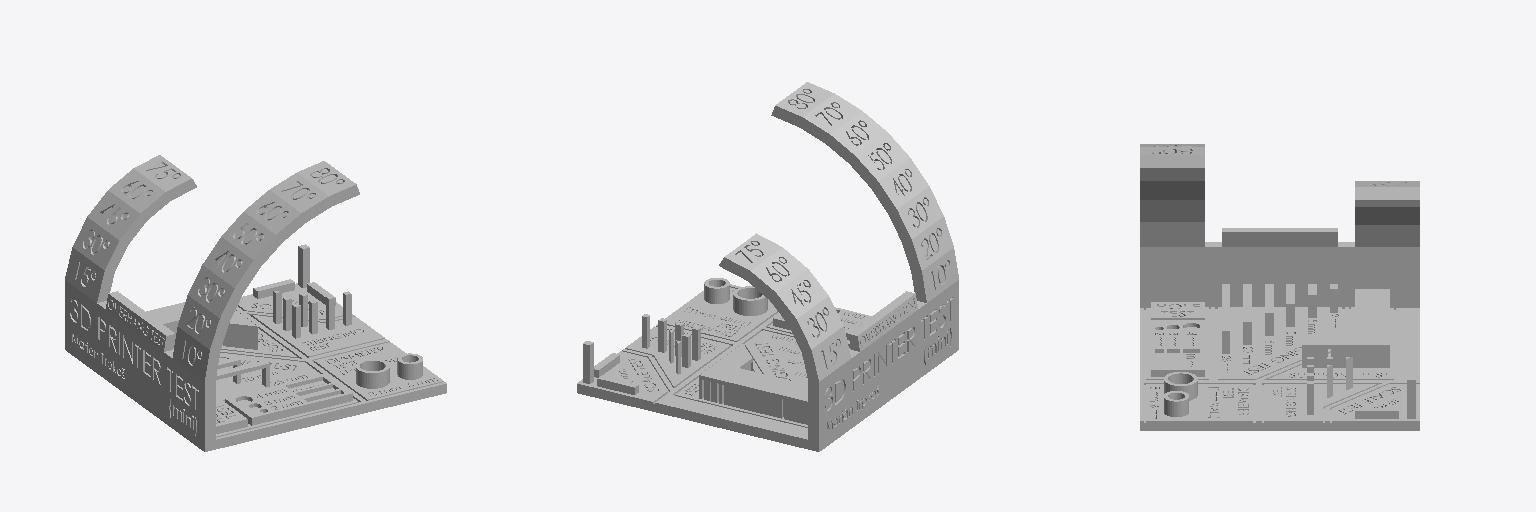
Rendered from 3dtest.obj.
3 views of the same model, side by side, from view 1: azimuth 30°, elevation 25°; view 2: azimuth 150°, elevation 25°; view 3: azimuth 270°, elevation 25° (orthographic).
Visible parts, largest first — view 1: 3D_printer_test_mini; view 2: 3D_printer_test_mini; view 3: 3D_printer_test_mini.
Part boxes in pixels (bbox=[...]): 3D_printer_test_mini: bbox=[65, 155, 446, 451]; 3D_printer_test_mini: bbox=[577, 82, 958, 451]; 3D_printer_test_mini: bbox=[1140, 144, 1419, 430].
Size of the model in its own units: 65 by 59.13 by 65.